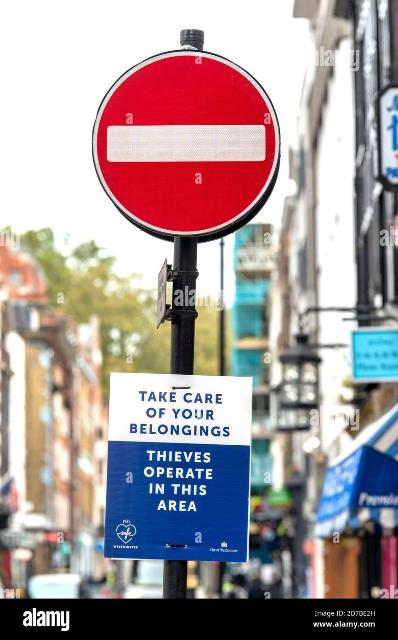B2: (90, 46, 282, 242)
